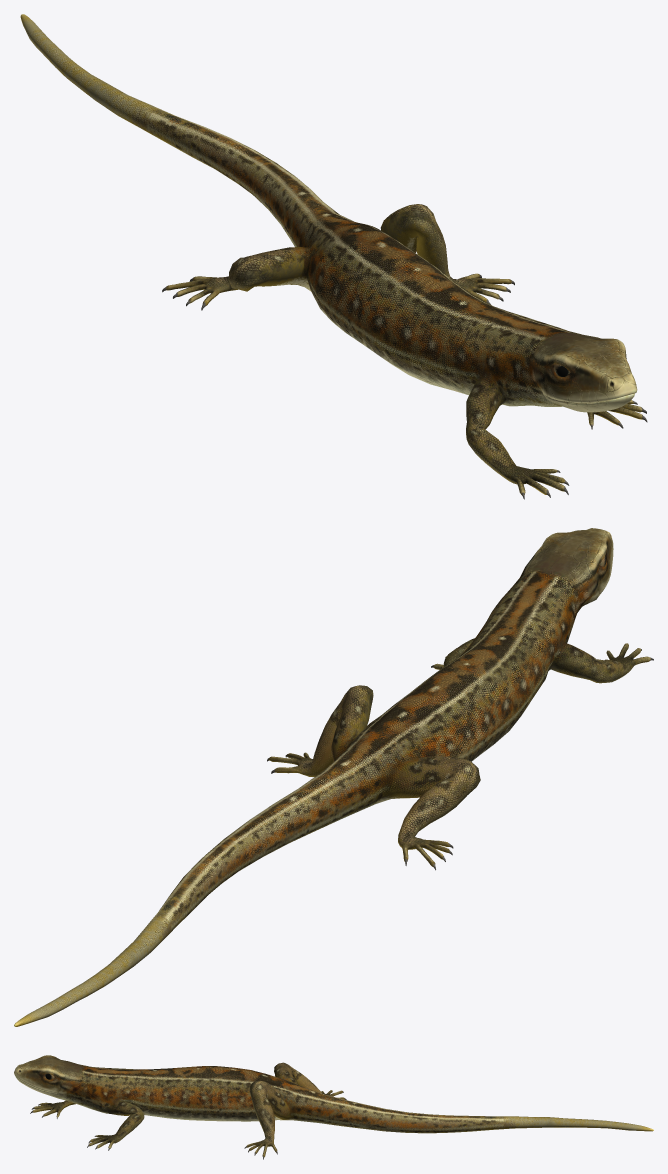
The model's file is Standing22.obj.
3 views of the same model, one above another, from view 1: azimuth 30°, elevation 25°; view 2: azimuth 150°, elevation 25°; view 3: azimuth 270°, elevation 25° (orthographic). The views are drawn at different scales.
Parts seen in each view (by area): view 1: Lizard; view 2: Lizard; view 3: Lizard.
Part boxes in pixels (x1,y1,x2,y2): Lizard: (20, 14, 647, 499); Lizard: (14, 528, 653, 1026); Lizard: (14, 1055, 653, 1159).
Size of the model in its own units: 25.67 by 11.64 by 104.
